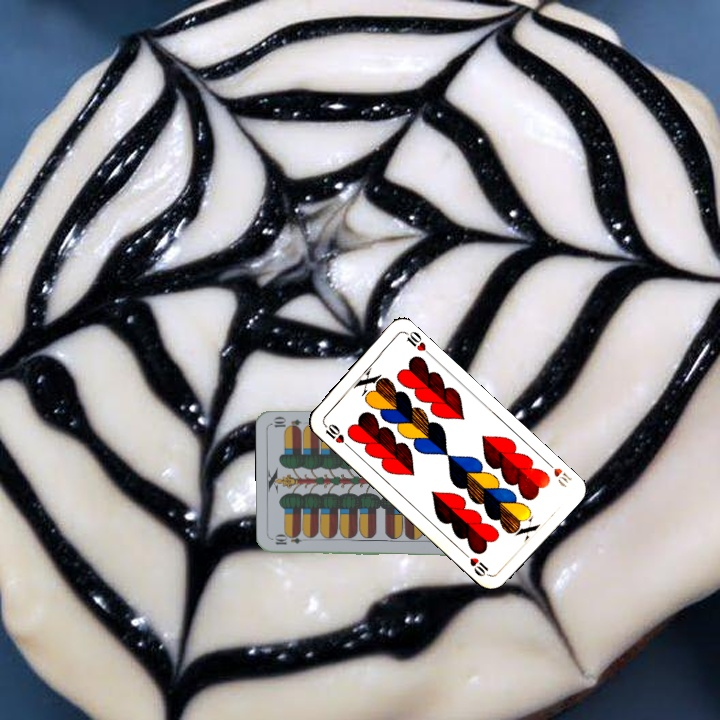E10: (271, 533, 311, 547)
H10: (541, 456, 575, 490), (319, 419, 352, 450)
